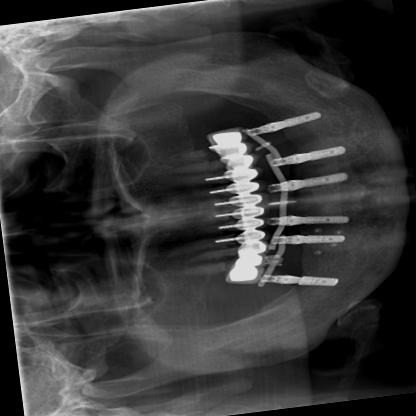ITI: (286, 164, 354, 194), (287, 140, 350, 164), (290, 266, 344, 293), (287, 206, 350, 229), (271, 107, 327, 132), (294, 228, 345, 249)
